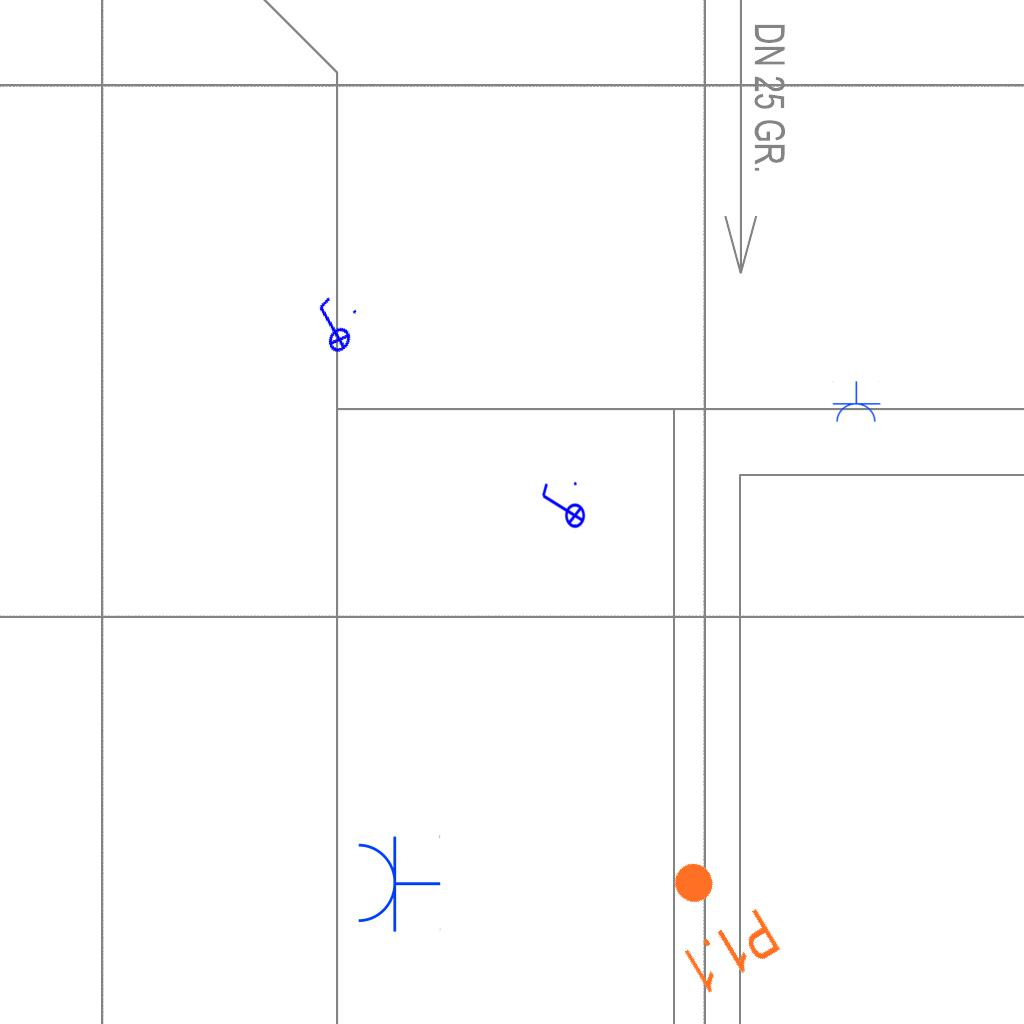Ausschalter_beleuchtet: (297, 290, 367, 362), (538, 479, 586, 535)
Downlight_LED_Einbauleuchten_Flur_2: (639, 841, 786, 999)
Schukosteckdose_einfach: (354, 833, 441, 933), (831, 381, 881, 424)
